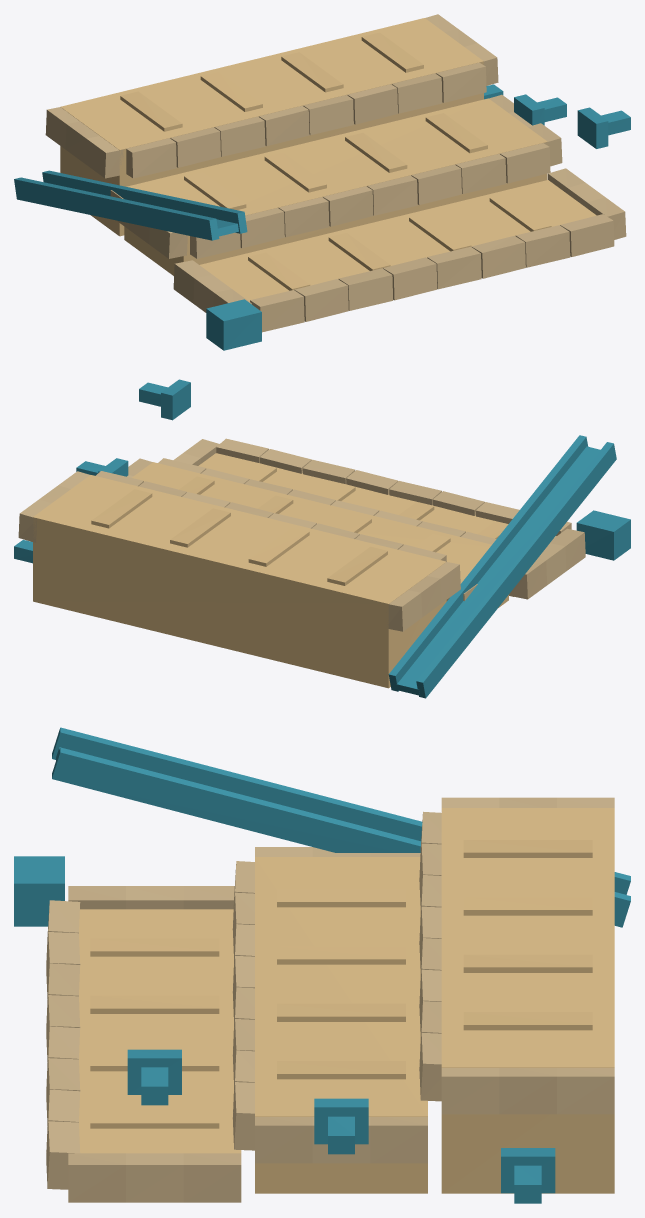
The model's file is terrace.source.glb.
The picture shows the model from 3 angles, top to bottom: view 1: azimuth 30°, elevation 25°; view 2: azimuth 150°, elevation 25°; view 3: azimuth 270°, elevation 25°; orthographic projection. The views are drawn at different scales.
Parts seen in each view (by area): view 1: terrace-rear-earth-platform-mesh, terrace-middle-earth-platform-mesh, terrace-front-earth-platform-mesh, terrace-drain-outer-rail-mesh, terrace-drain-inner-rail-mesh, terrace-drain-mouth-mesh, terrace-front-riser-stone-7-mesh, terrace-front-riser-stone-5-mesh, terrace-front-riser-stone-3-mesh, terrace-front-riser-stone-6-mesh, terrace-front-riser-stone-8-mesh, terrace-front-riser-stone-4-mesh (+45 smaller); view 2: terrace-rear-earth-platform-mesh, terrace-middle-earth-platform-mesh, terrace-drain-outer-rail-mesh, terrace-drain-channel-bottom-mesh, terrace-drain-inner-rail-mesh, terrace-front-earth-platform-mesh, terrace-drain-mouth-mesh, terrace-rear-left-cheek-1-mesh, terrace-rear-furrow-4-mesh, terrace-rear-furrow-2-mesh, terrace-rear-furrow-3-mesh, terrace-rear-furrow-1-mesh (+16 smaller); view 3: terrace-rear-earth-platform-mesh, terrace-middle-earth-platform-mesh, terrace-front-earth-platform-mesh, terrace-drain-inner-rail-mesh, terrace-drain-outer-rail-mesh, terrace-drain-mouth-mesh, terrace-front-right-cheek-1-mesh, terrace-front-right-cheek-2-mesh, terrace-front-right-cheek-3-mesh, terrace-rear-right-cheek-3-mesh, terrace-middle-right-cheek-1-mesh, terrace-middle-right-cheek-3-mesh (+48 smaller).
Boxes of the visible parts, <box> form: terrace-rear-earth-platform-mesh: <box>60,18,483,236</box>; terrace-middle-earth-platform-mesh: <box>124,98,547,275</box>; terrace-front-earth-platform-mesh: <box>200,180,596,301</box>; terrace-drain-outer-rail-mesh: <box>14,177,219,240</box>; terrace-drain-inner-rail-mesh: <box>42,170,247,233</box>; terrace-drain-mouth-mesh: <box>206,299,261,350</box>; terrace-front-riser-stone-7-mesh: <box>515,225,570,267</box>; terrace-front-riser-stone-5-mesh: <box>427,246,481,289</box>; terrace-front-riser-stone-3-mesh: <box>338,268,393,310</box>; terrace-front-riser-stone-6-mesh: <box>471,235,525,278</box>; terrace-front-riser-stone-8-mesh: <box>560,214,614,256</box>; terrace-front-riser-stone-4-mesh: <box>383,257,437,300</box>; terrace-rear-earth-platform-mesh: <box>33,475,446,688</box>; terrace-middle-earth-platform-mesh: <box>132,462,508,607</box>; terrace-drain-outer-rail-mesh: <box>416,442,616,698</box>; terrace-drain-channel-bottom-mesh: <box>395,446,600,695</box>; terrace-drain-inner-rail-mesh: <box>388,435,588,691</box>; terrace-front-earth-platform-mesh: <box>198,453,556,596</box>; terrace-drain-mouth-mesh: <box>576,510,630,560</box>; terrace-rear-left-cheek-1-mesh: <box>386,590,422,631</box>; terrace-rear-furrow-4-mesh: <box>91,489,152,528</box>; terrace-rear-furrow-2-mesh: <box>248,527,309,566</box>; terrace-rear-furrow-3-mesh: <box>170,508,230,547</box>; terrace-rear-furrow-1-mesh: <box>327,546,387,585</box>; terrace-rear-earth-platform-mesh: <box>441,808,614,1193</box>; terrace-middle-earth-platform-mesh: <box>255,857,427,1193</box>; terrace-front-earth-platform-mesh: <box>79,909,241,1153</box>; terrace-drain-inner-rail-mesh: <box>52,747,630,927</box>; terrace-drain-outer-rail-mesh: <box>52,727,630,894</box>; terrace-drain-mouth-mesh: <box>14,856,64,926</box>; terrace-front-right-cheek-1-mesh: <box>183,1153,241,1202</box>; terrace-front-right-cheek-2-mesh: <box>126,1153,183,1202</box>; terrace-front-right-cheek-3-mesh: <box>68,1153,125,1202</box>; terrace-rear-right-cheek-3-mesh: <box>441,1068,499,1114</box>; terrace-middle-right-cheek-1-mesh: <box>370,1117,427,1163</box>; terrace-middle-right-cheek-3-mesh: <box>255,1117,312,1163</box>.
Bounding box in the file's own units: 4.48 × 1.16 × 3.64.
